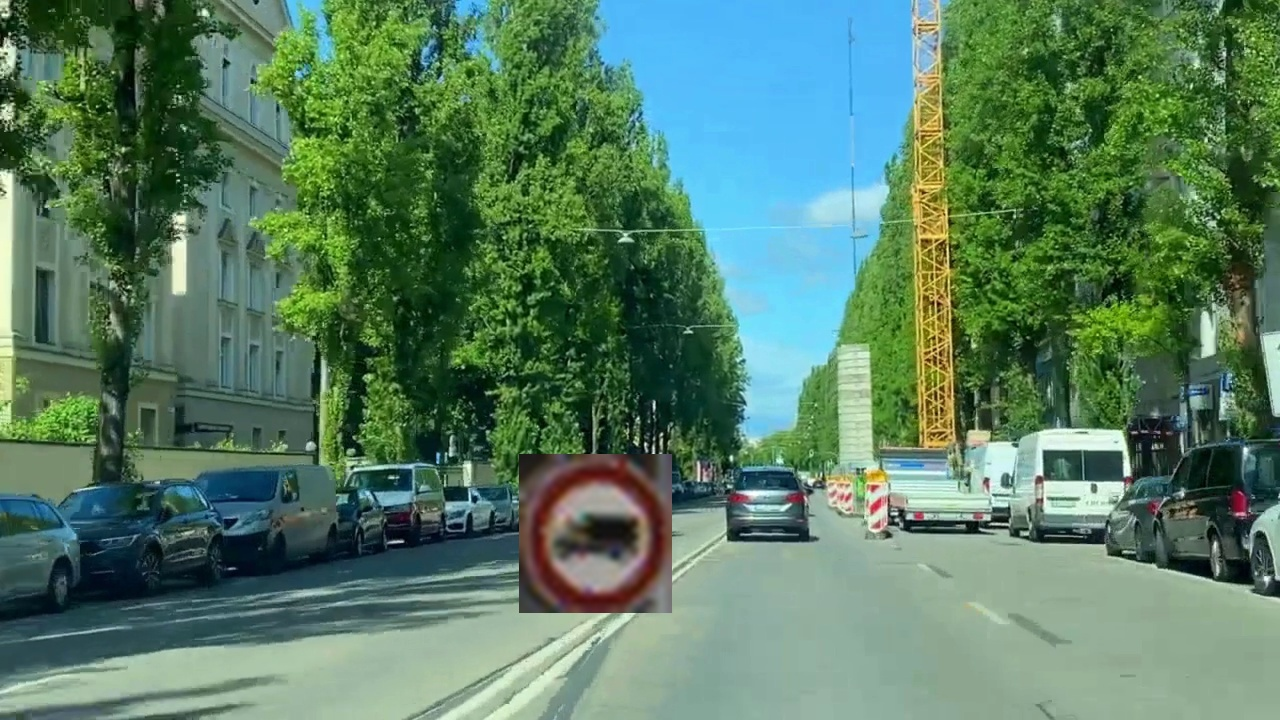Veh >3.5t prohib: (519, 454, 672, 613)
